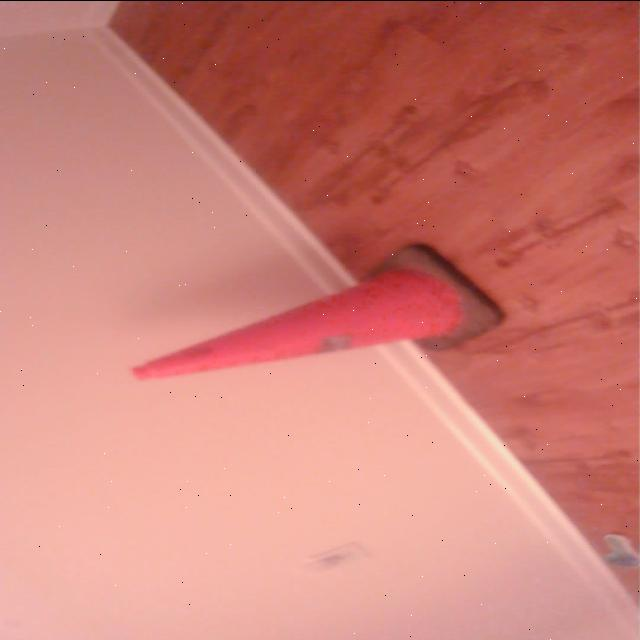traffic cone: (126, 243, 509, 383)
